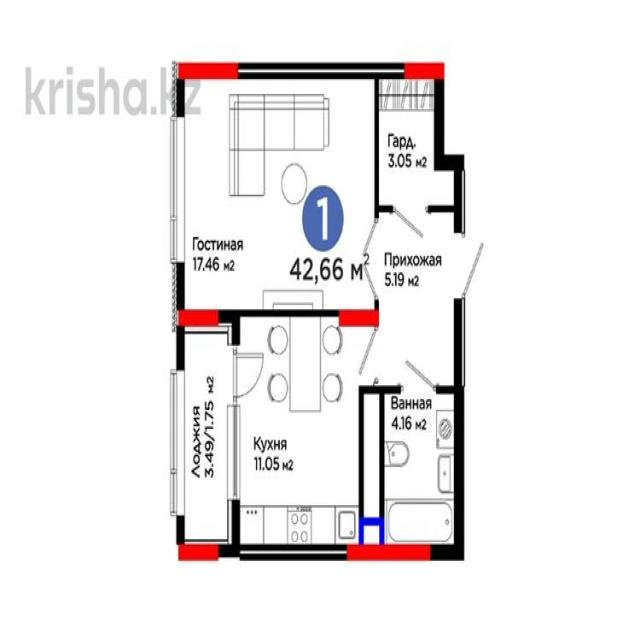balcony: (179, 320, 235, 548)
bathroom: (384, 392, 462, 549)
hallway: (376, 213, 462, 392)
kitchen: (236, 319, 376, 552)
living_room: (176, 71, 375, 316)
other: (376, 78, 438, 210)
